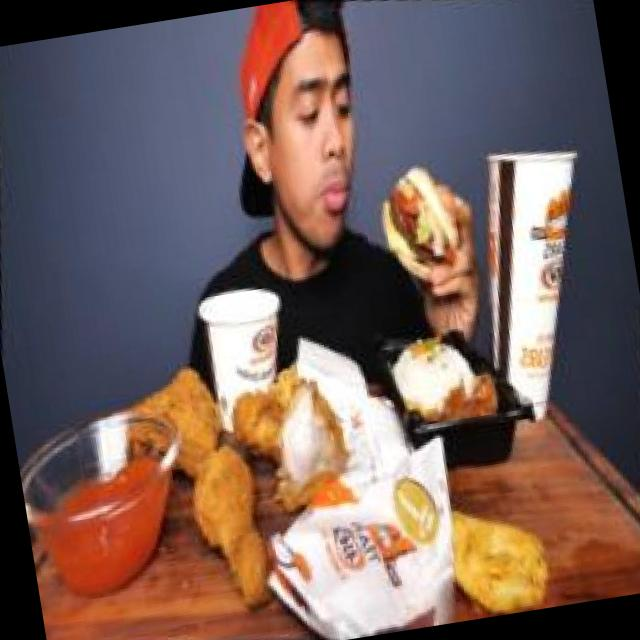AW cola: (424, 109, 628, 433)
black pepper rice bowl: (368, 314, 525, 454)
fried chicken: (80, 332, 382, 622)
mozza burger: (356, 144, 482, 302)
perkedel: (416, 476, 566, 626)
